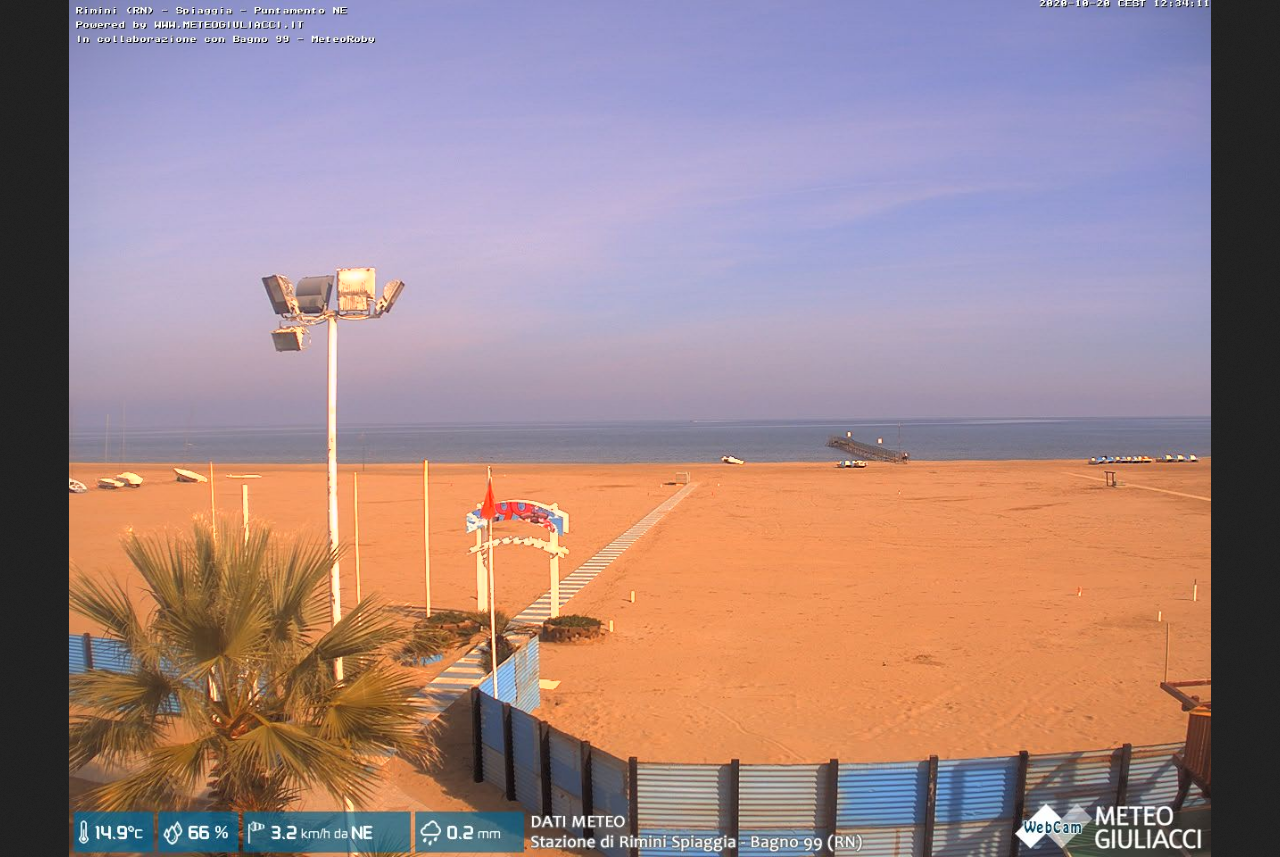no: (476, 461, 505, 530)
